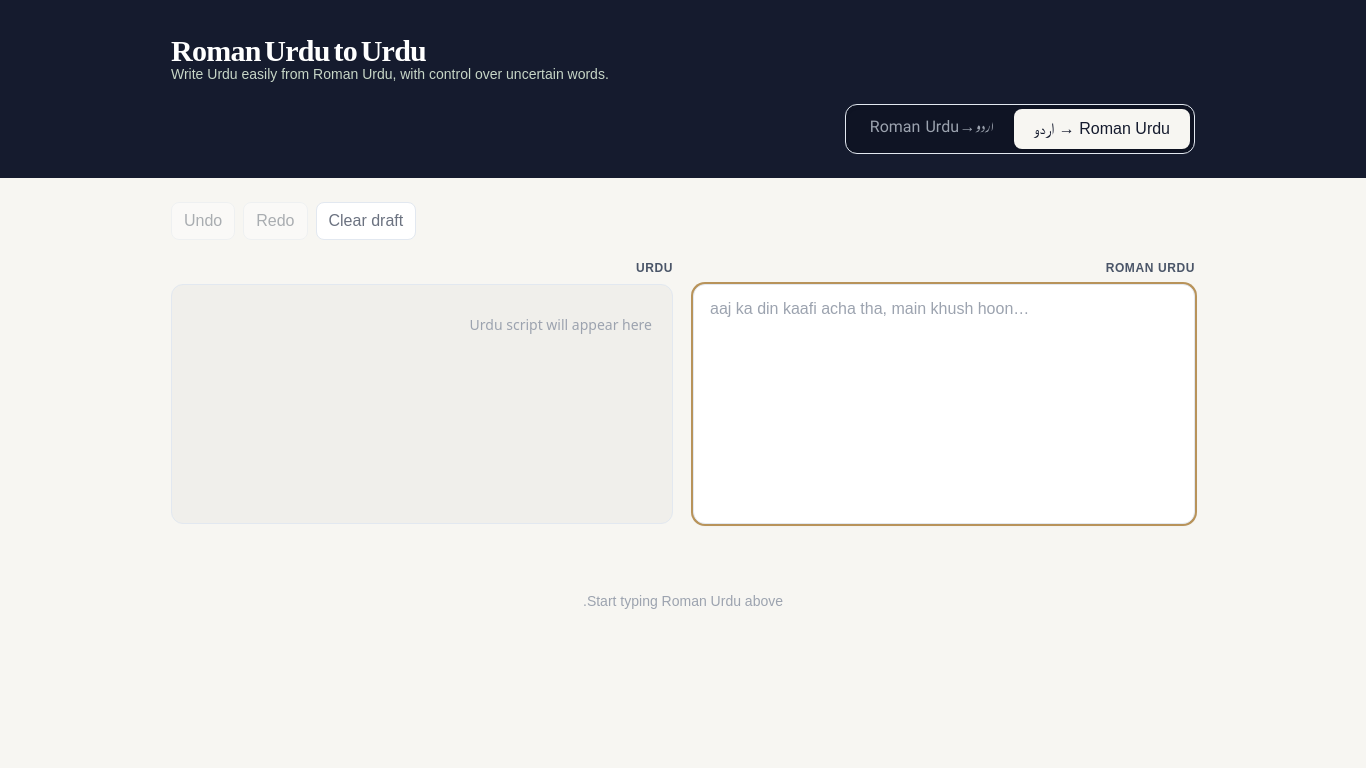
Test: 10. punctuation preserved in output
This screenshot has width=1366, height=768.
Type "theek? haan!" into the text box with id "roman-input" at (944, 404), box 693,284 -> 1195,524
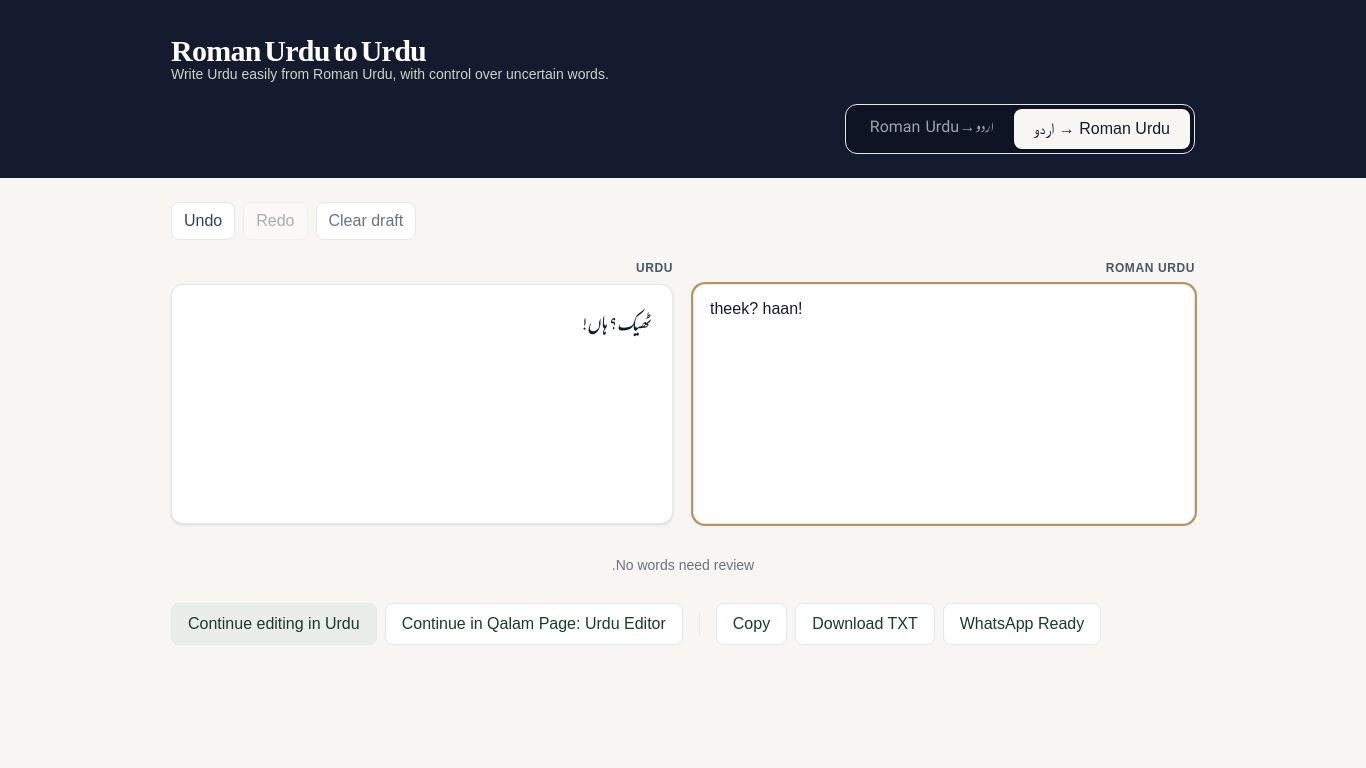
Expected: the message reads "ٹھیک؟ ہاں!", 582,306 -> 652,344
Expected: the message shows "!", 171,284 -> 673,524
